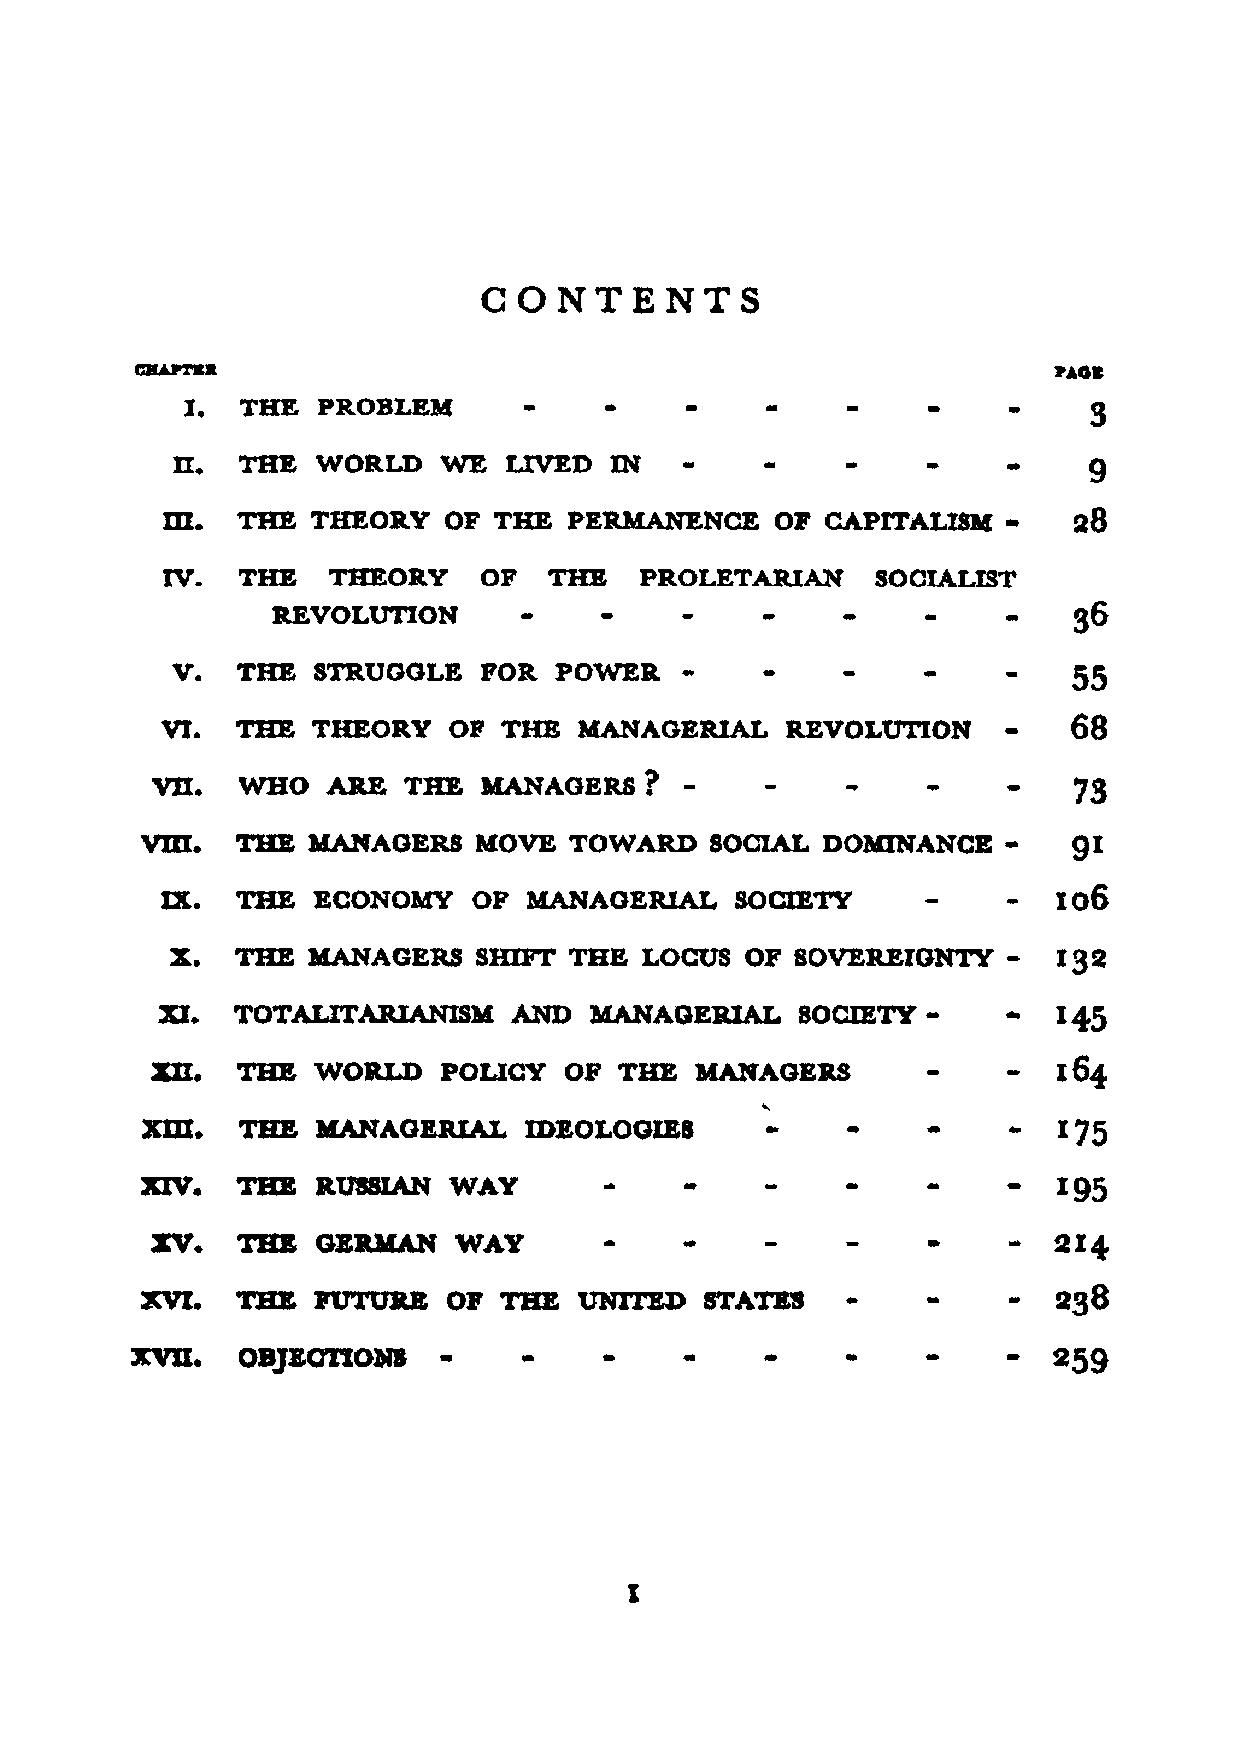TOC_chapter: (160, 562, 1023, 633), (158, 505, 996, 538), (137, 828, 1001, 860), (140, 1280, 807, 1322), (154, 714, 976, 746), (149, 998, 925, 1031), (160, 943, 998, 969), (148, 1059, 855, 1087), (142, 1113, 698, 1147), (158, 886, 856, 913), (170, 655, 666, 690), (146, 772, 666, 803), (169, 448, 645, 480), (146, 1224, 535, 1261), (136, 1172, 529, 1204), (123, 1341, 417, 1374), (181, 389, 459, 421)
TOC_pagenumber: (1049, 1338, 1117, 1376), (1051, 1225, 1117, 1261), (1053, 1113, 1111, 1151), (1053, 1051, 1107, 1092), (1052, 1283, 1114, 1317), (1053, 943, 1113, 976), (1055, 998, 1108, 1033), (1066, 597, 1115, 633), (1052, 1174, 1108, 1204), (1055, 880, 1106, 910), (1068, 776, 1111, 809), (1072, 501, 1108, 539), (1070, 709, 1107, 745), (1070, 828, 1106, 866), (1070, 662, 1110, 690), (1084, 396, 1113, 431), (1088, 450, 1106, 482)
chapter: (476, 283, 765, 318)
content_pagenumber: (613, 1576, 652, 1612)
